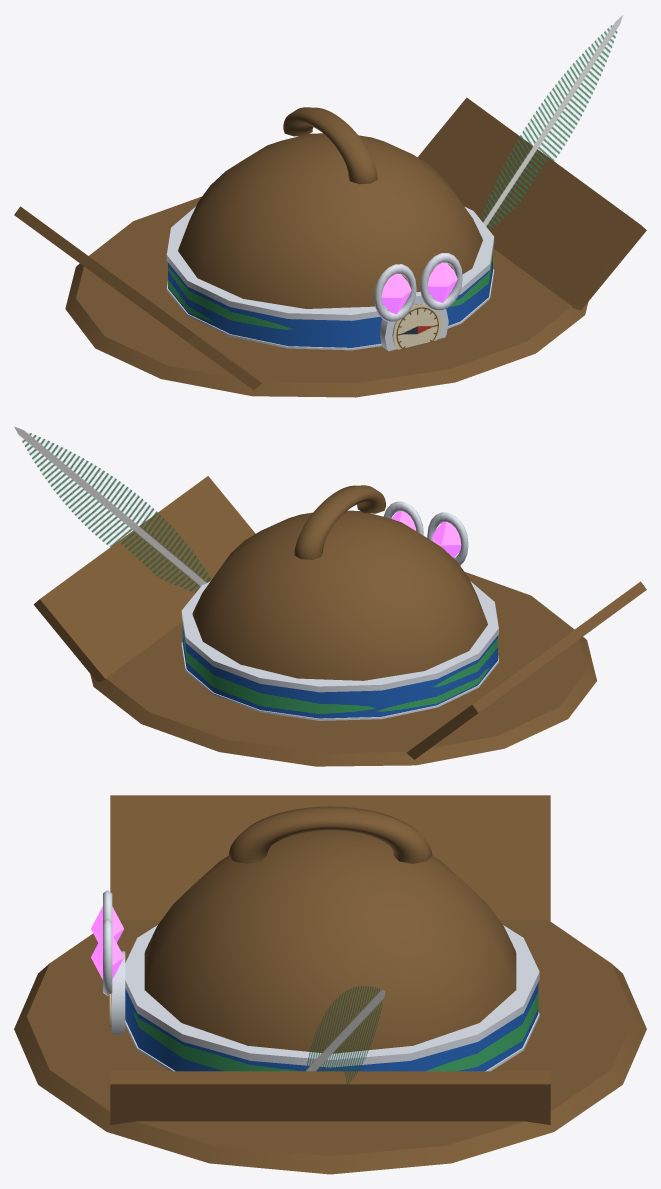
The model's file is hat_eqsa2.glb.
3 views of the same model, one above another, from view 1: azimuth 30°, elevation 25°; view 2: azimuth 150°, elevation 25°; view 3: azimuth 270°, elevation 25° (orthographic). The views are drawn at different scales.
Size of the model in its own units: 4.24 by 1.42 by 3.33.
6 materials, 3 textured.
